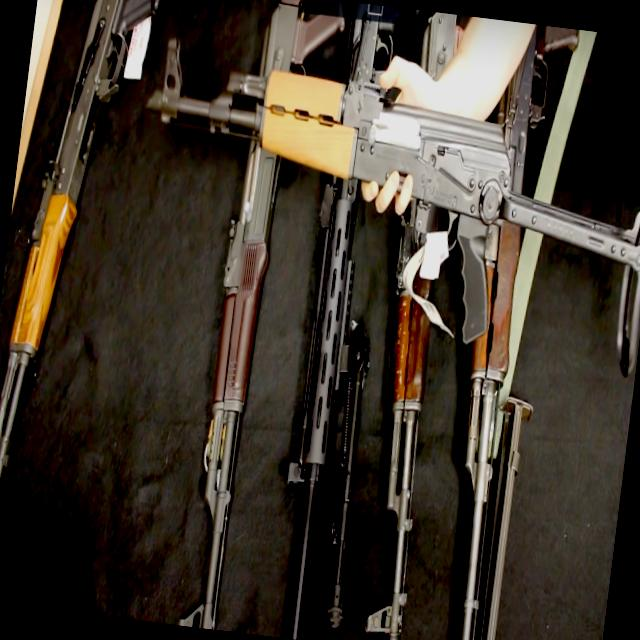ak: (120, 8, 640, 381)
